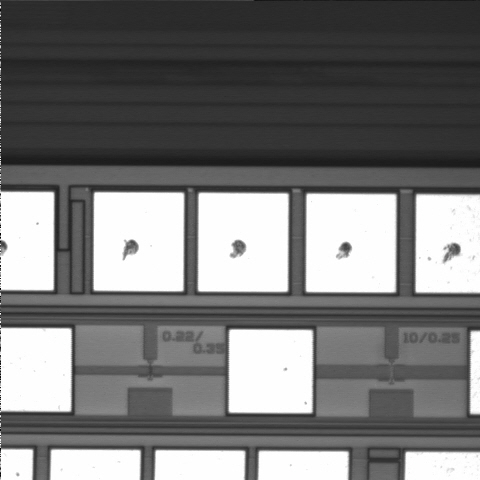pad: (94, 192, 184, 291), (198, 193, 288, 292), (306, 194, 396, 292), (229, 330, 313, 413)
